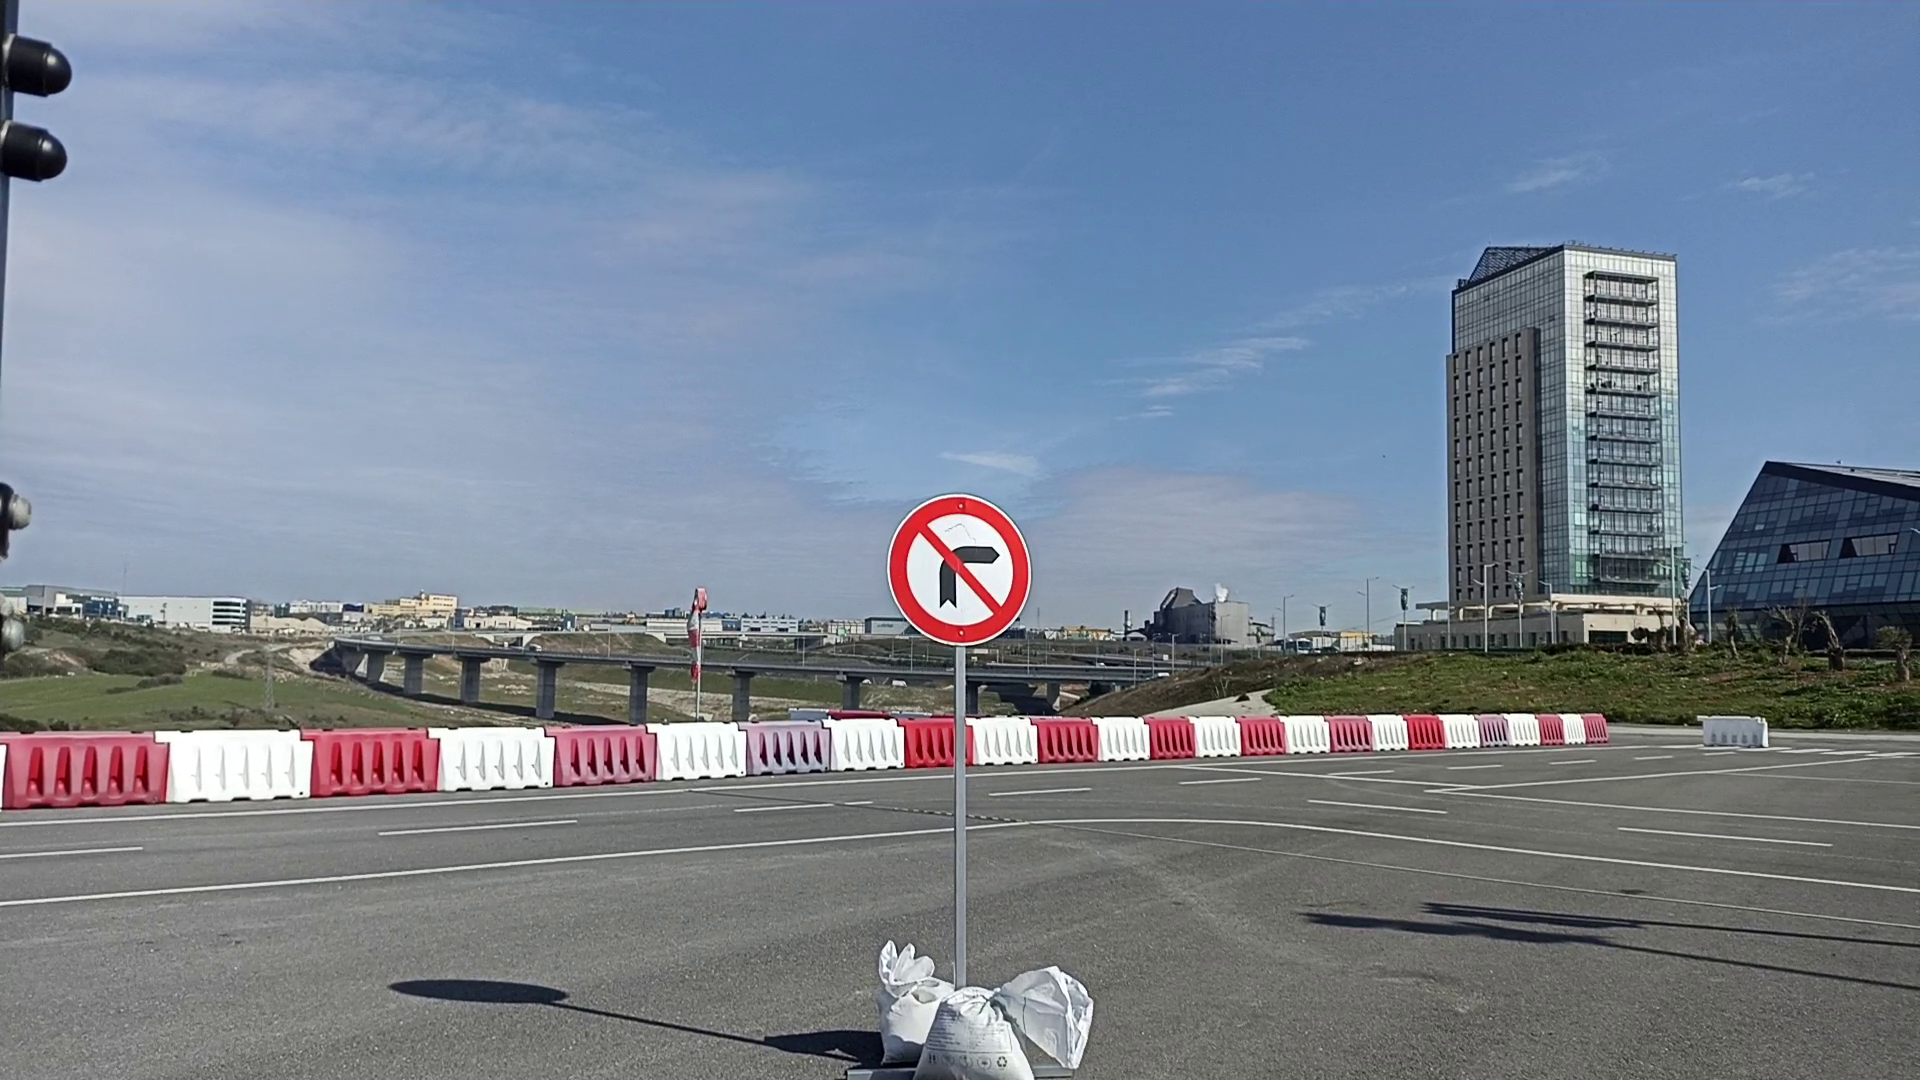noleftturn: (884, 491, 1034, 650)
